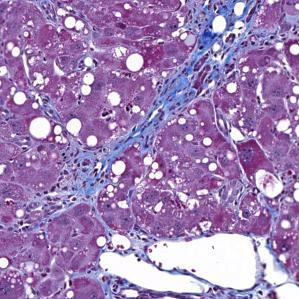fibrosis: (159, 39, 227, 103)
